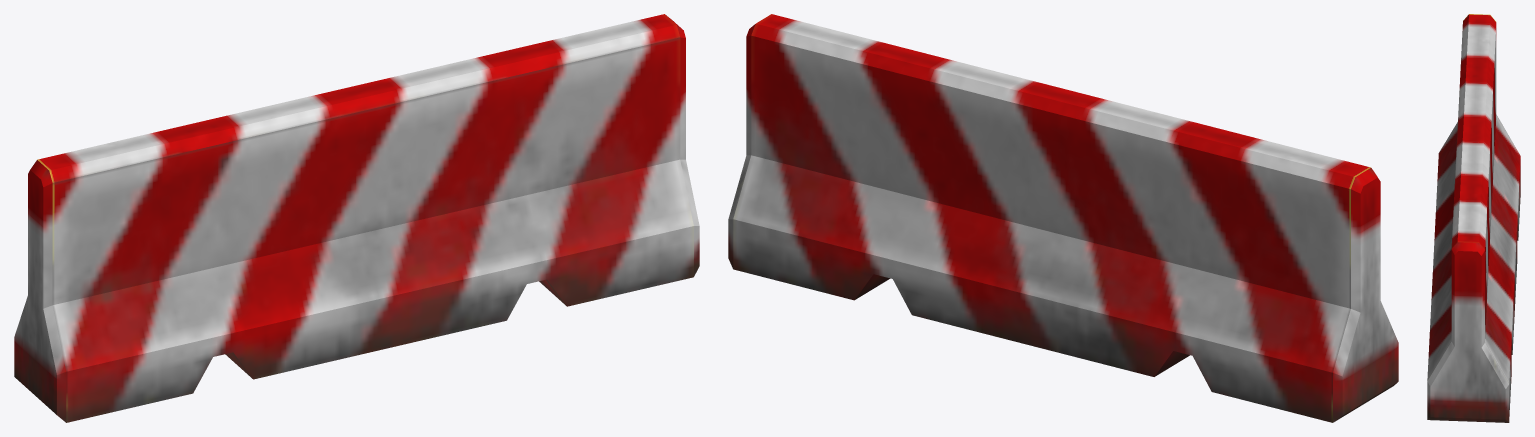
Rendered from bortik_v2 (1).fbx.
The picture shows the model from 3 angles, left to right: view 1: azimuth 30°, elevation 25°; view 2: azimuth 150°, elevation 25°; view 3: azimuth 270°, elevation 25°; orthographic projection. The views are drawn at different scales.
Visible parts, largest first — view 1: bortik_v2__1_; view 2: bortik_v2__1_; view 3: bortik_v2__1_.
Boxes of the visible parts, <box> form: bortik_v2__1_: <box>14,14,699,422</box>; bortik_v2__1_: <box>728,14,1398,422</box>; bortik_v2__1_: <box>1427,14,1520,422</box>.
Bounding box in the file's own units: 284 × 100 × 47.27.
